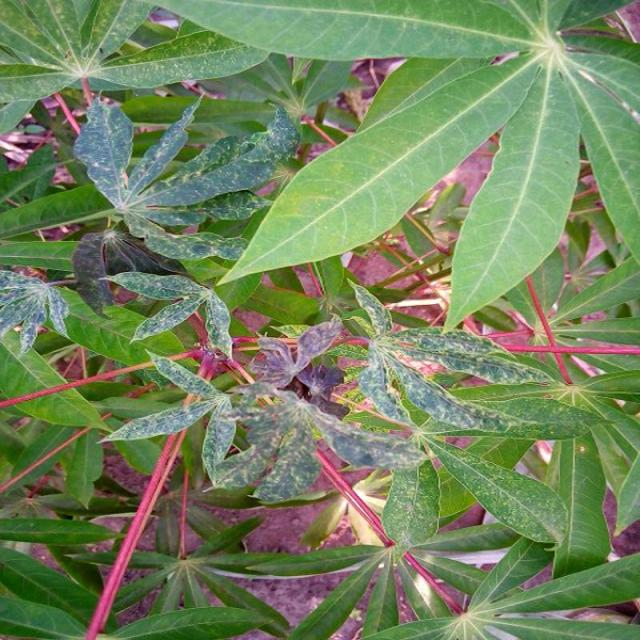cassava leaf: (2, 1, 640, 637), (215, 50, 544, 288), (443, 58, 582, 332)
